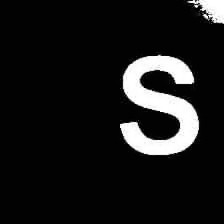LTR_S: (111, 47, 202, 160)
